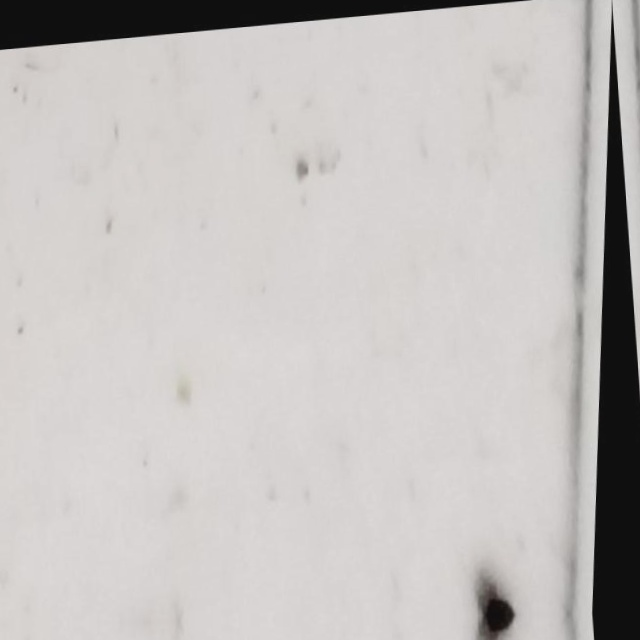varroa: (488, 594, 527, 614)
